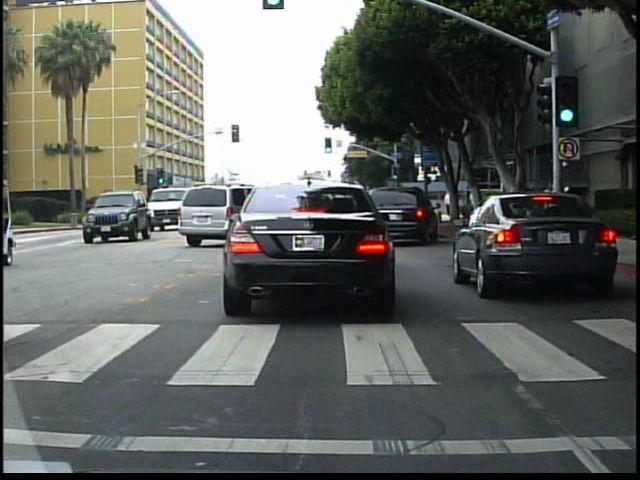person: (550, 175, 569, 233), (442, 187, 455, 218)
